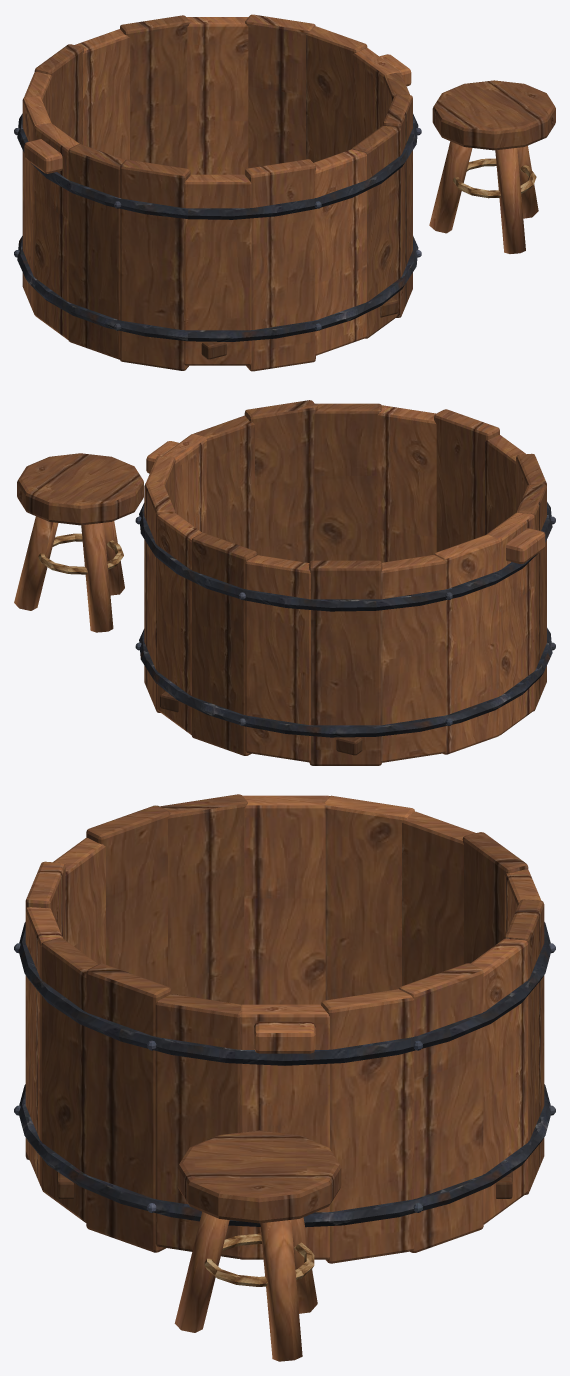
The model's file is bathtub_barrel.glb.
3 renders of one model, top to bottom at view 1: azimuth 30°, elevation 25°; view 2: azimuth 150°, elevation 25°; view 3: azimuth 270°, elevation 25°, orthographic. The views are drawn at different scales.
Visible parts, largest first — view 1: model; view 2: model; view 3: model.
Part boxes in pixels (x1,y1,x2,y2): model: (14,14,555,371); model: (14,400,555,765); model: (14,794,555,1361).
Size of the model in its own units: 1.51 by 0.5662 by 1.06.
7 materials, 7 textured.
